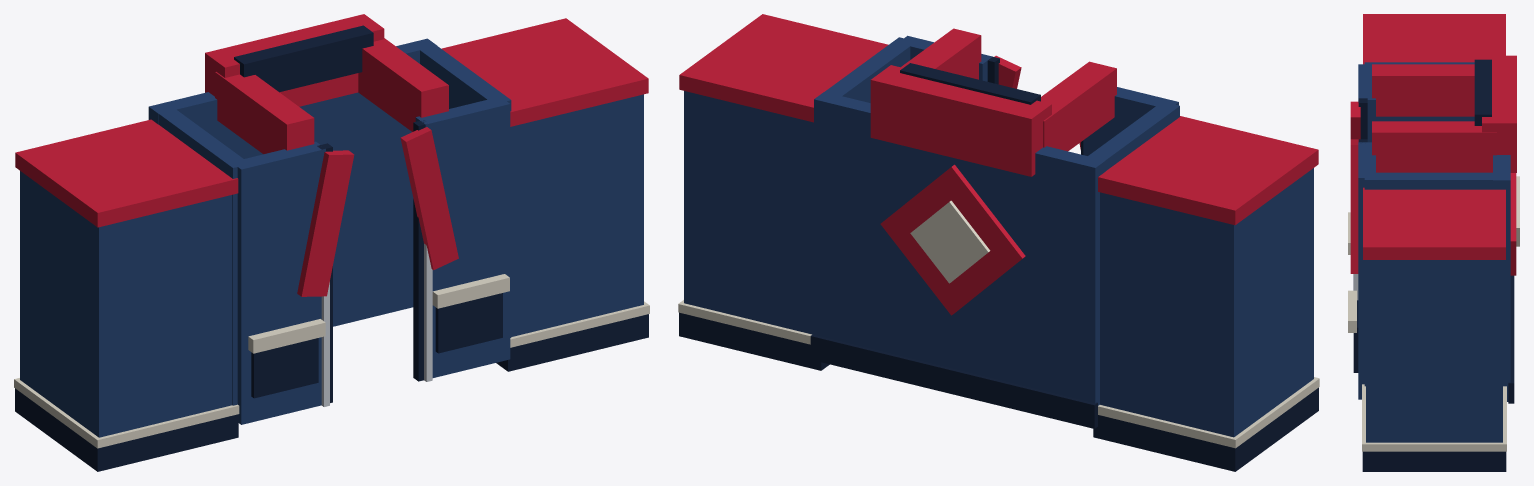
Rendered from Campera.fbx.
3 views of the same model, side by side, from view 1: azimuth 30°, elevation 25°; view 2: azimuth 150°, elevation 25°; view 3: azimuth 270°, elevation 25° (orthographic). The views are drawn at different scales.
Parts seen in each view (by area): view 1: Cuerpo_RightUpperArm, Campera_Espalda, Cuerpo_RightLowerArm, Cuerpo_LeftUpperArm, Campera_FrenteRight, Campera_FrenteLeft, Campera_HombroRight, Campera_HombroLeft, Cuerpo_LeftLowerArm, Cuello_LadoRight, Campera_PunioRight, Cuello_Forro (+16 smaller); view 2: Campera_Espalda, Cuerpo_RightUpperArm, Cuerpo_RightLowerArm, Cuerpo_LeftUpperArm, Campera_HombroRight, Cuello_Atras, Campera_HombroLeft, Cuerpo_LeftLowerArm, Campera_Parche, Campera_Dobladillo, Campera_PunioRight, Cuello_LadoRight (+9 smaller); view 3: Cuerpo_LeftUpperArm, Campera_HombroLeft, Cuerpo_LeftLowerArm, Campera_HombroRight, Cuello_LadoLeft, Cuello_LadoRight, Campera_PunioLeft, Cuello_Atras, Campera_CostadoLeft, Campera_FrenteLeft, Campera_Espalda, Campera_RibeteLeft (+11 smaller).
Boxes of the visible parts, <box> form: Cuerpo_RightUpperArm: <box>20,171,232,354</box>; Campera_Espalda: <box>148,38,436,326</box>; Cuerpo_RightLowerArm: <box>20,297,232,437</box>; Cuerpo_LeftUpperArm: <box>511,94,643,253</box>; Campera_FrenteRight: <box>231,141,325,424</box>; Campera_FrenteLeft: <box>415,96,510,377</box>; Campera_HombroRight: <box>15,119,238,227</box>; Campera_HombroLeft: <box>441,18,648,126</box>; Cuerpo_LeftLowerArm: <box>511,221,643,336</box>; Cuello_LadoRight: <box>215,72,314,154</box>; Campera_PunioRight: <box>15,388,238,471</box>; Cuello_Forro: <box>234,25,373,92</box>; Campera_Espalda: <box>814,92,1105,405</box>; Cuerpo_RightUpperArm: <box>1100,168,1313,352</box>; Cuerpo_RightLowerArm: <box>1100,295,1313,437</box>; Cuerpo_LeftUpperArm: <box>684,91,813,250</box>; Campera_HombroRight: <box>1098,116,1318,225</box>; Cuello_Atras: <box>870,65,1051,176</box>; Campera_HombroLeft: <box>679,14,888,122</box>; Cuerpo_LeftLowerArm: <box>684,219,813,334</box>; Campera_Parche: <box>880,164,1025,315</box>; Campera_Dobladillo: <box>810,334,1097,428</box>; Campera_PunioRight: <box>1093,387,1318,471</box>; Cuello_LadoRight: <box>1041,61,1116,151</box>; Cuerpo_LeftUpperArm: <box>1366,260,1502,370</box>; Campera_HombroLeft: <box>1363,187,1505,259</box>; Cuerpo_LeftLowerArm: <box>1366,370,1502,442</box>; Campera_HombroRight: <box>1363,14,1505,64</box>; Cuello_LadoLeft: <box>1372,121,1496,172</box>; Cuello_LadoRight: <box>1372,64,1474,116</box>; Campera_PunioLeft: <box>1362,451,1506,471</box>; Cuello_Atras: <box>1482,55,1516,172</box>; Campera_CostadoLeft: <box>1364,172,1504,386</box>; Campera_FrenteLeft: <box>1358,142,1375,399</box>; Campera_Espalda: <box>1493,155,1510,401</box>; Campera_RibeteLeft: <box>1362,384,1506,451</box>.
Size of the model in its own units: 3.96 by 2.12 by 1.23.
